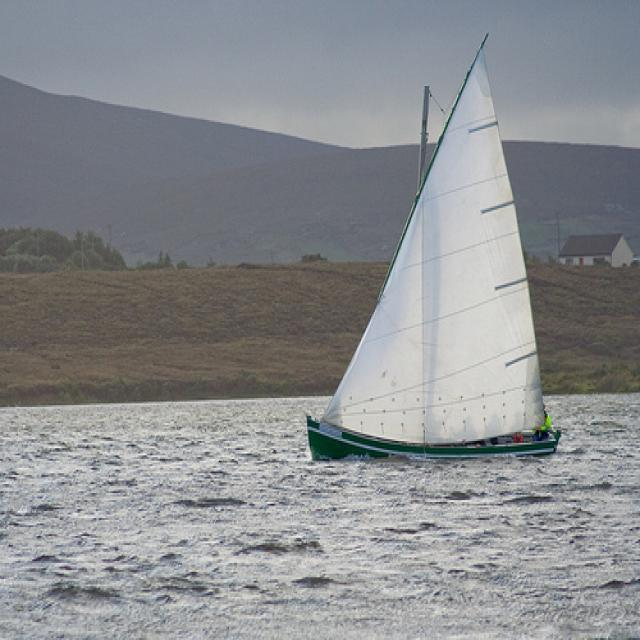Ship: (307, 40, 562, 462)
